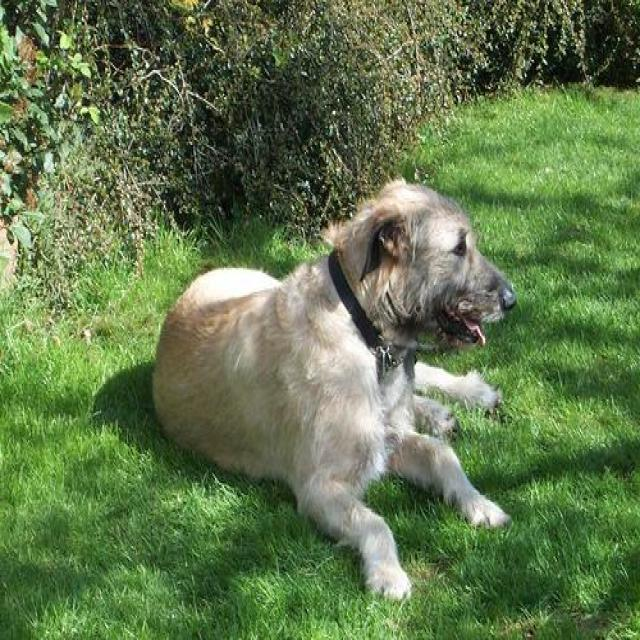irish_wolfhound: (151, 174, 518, 600)
